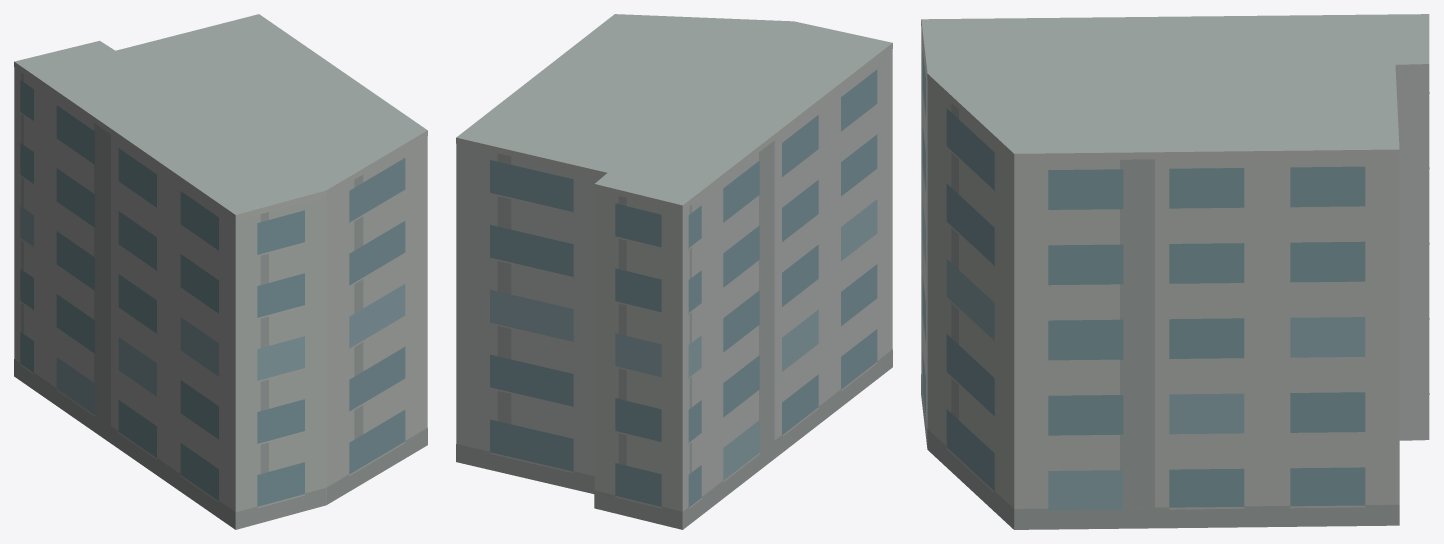
Rendered from survey-upis-32926204.glb.
3 views of the same model, side by side, from view 1: azimuth 30°, elevation 25°; view 2: azimuth 150°, elevation 25°; view 3: azimuth 270°, elevation 25° (orthographic). The views are drawn at different scales.
Parts seen in each view (by area): view 1: survey-upis-32926204.tmp; view 2: survey-upis-32926204.tmp; view 3: survey-upis-32926204.tmp.
Boxes of the visible parts, x1,y1,x2,y2 form: survey-upis-32926204.tmp: [14, 14, 427, 529]; survey-upis-32926204.tmp: [456, 14, 892, 529]; survey-upis-32926204.tmp: [921, 14, 1429, 529].
Size of the model in its own units: 10.45 by 13.1 by 16.06.
